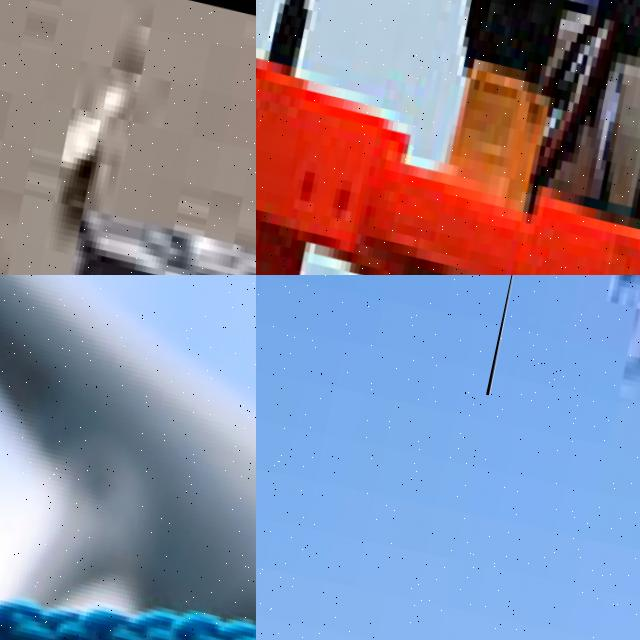0: (0, 0, 256, 275), (485, 275, 640, 452)
drone: (256, 0, 640, 275), (0, 275, 256, 640)
